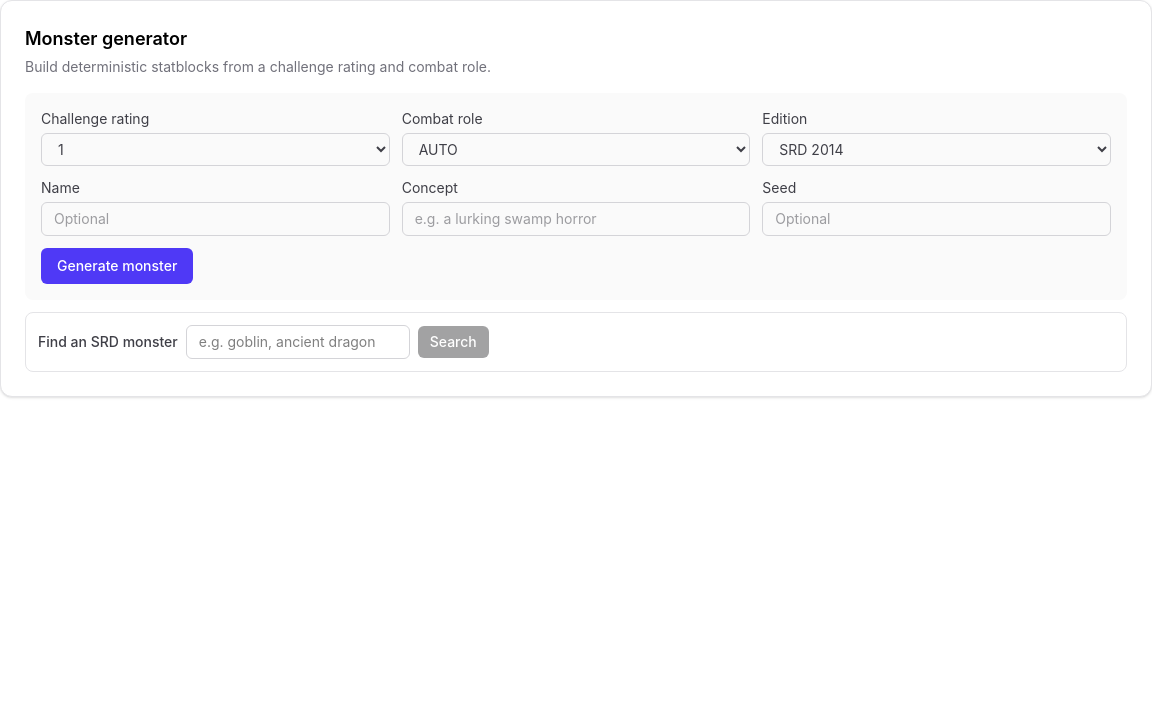
MonsterGenerator › omits empty name and concept from the request
What coordinates should you click on to do the following:
click the button "Generate monster"
I would click on:
 (117, 266)
Its box is x1=41 y1=248 x2=193 y2=284.
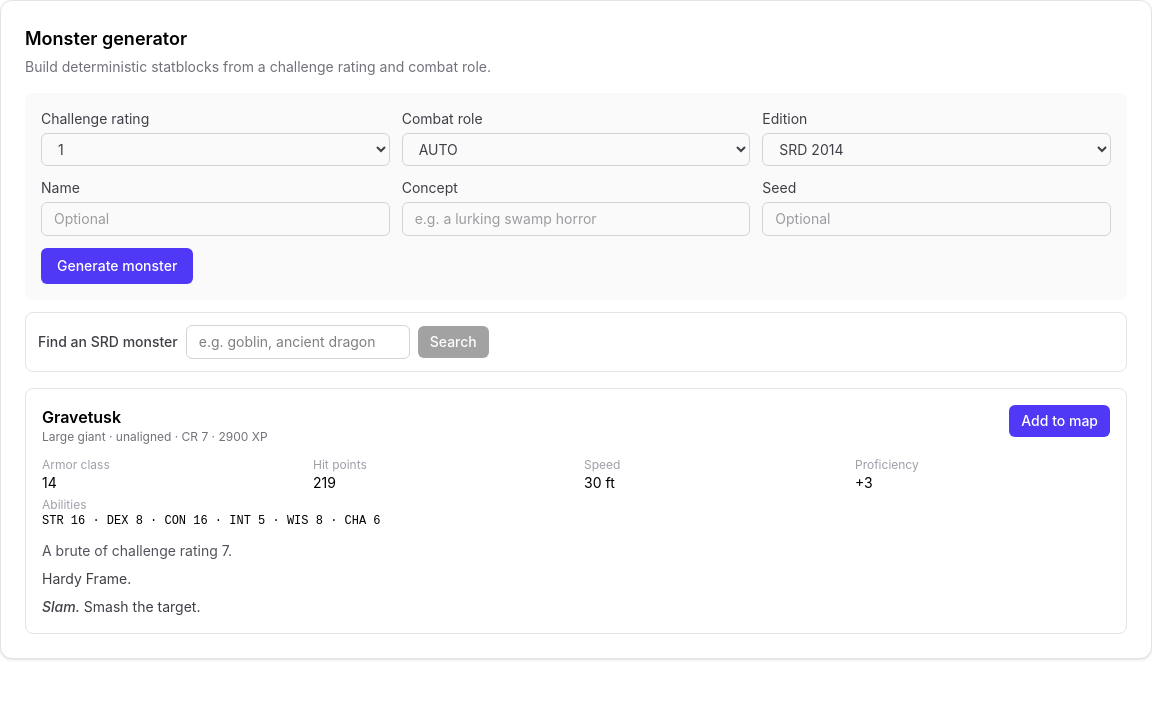
Expected: the element with test id "monster-statblock" is shown, x1=25 y1=388 x2=1127 y2=634
